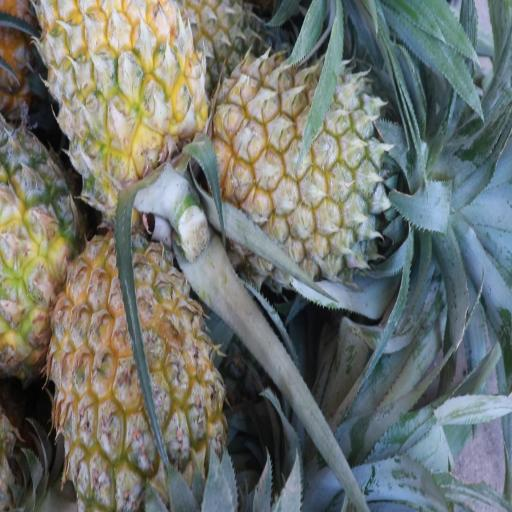------------------------------: (0, 116, 95, 382)
Pineapple - v8 v1: (45, 224, 240, 512), (208, 45, 416, 294), (35, 0, 209, 295)
